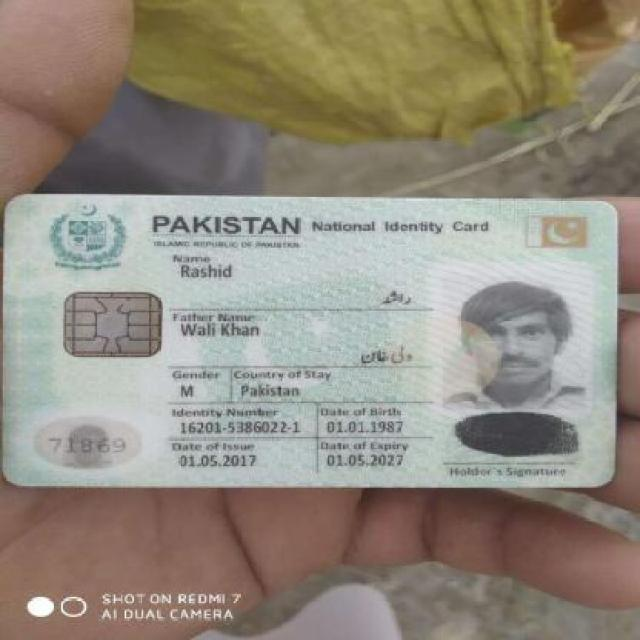Front: (2, 188, 624, 490)
